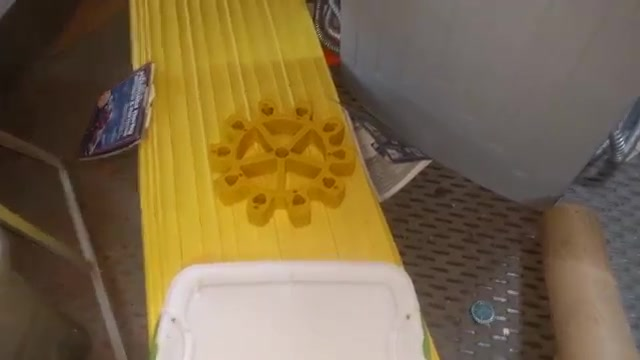gear: (192, 90, 366, 236)
